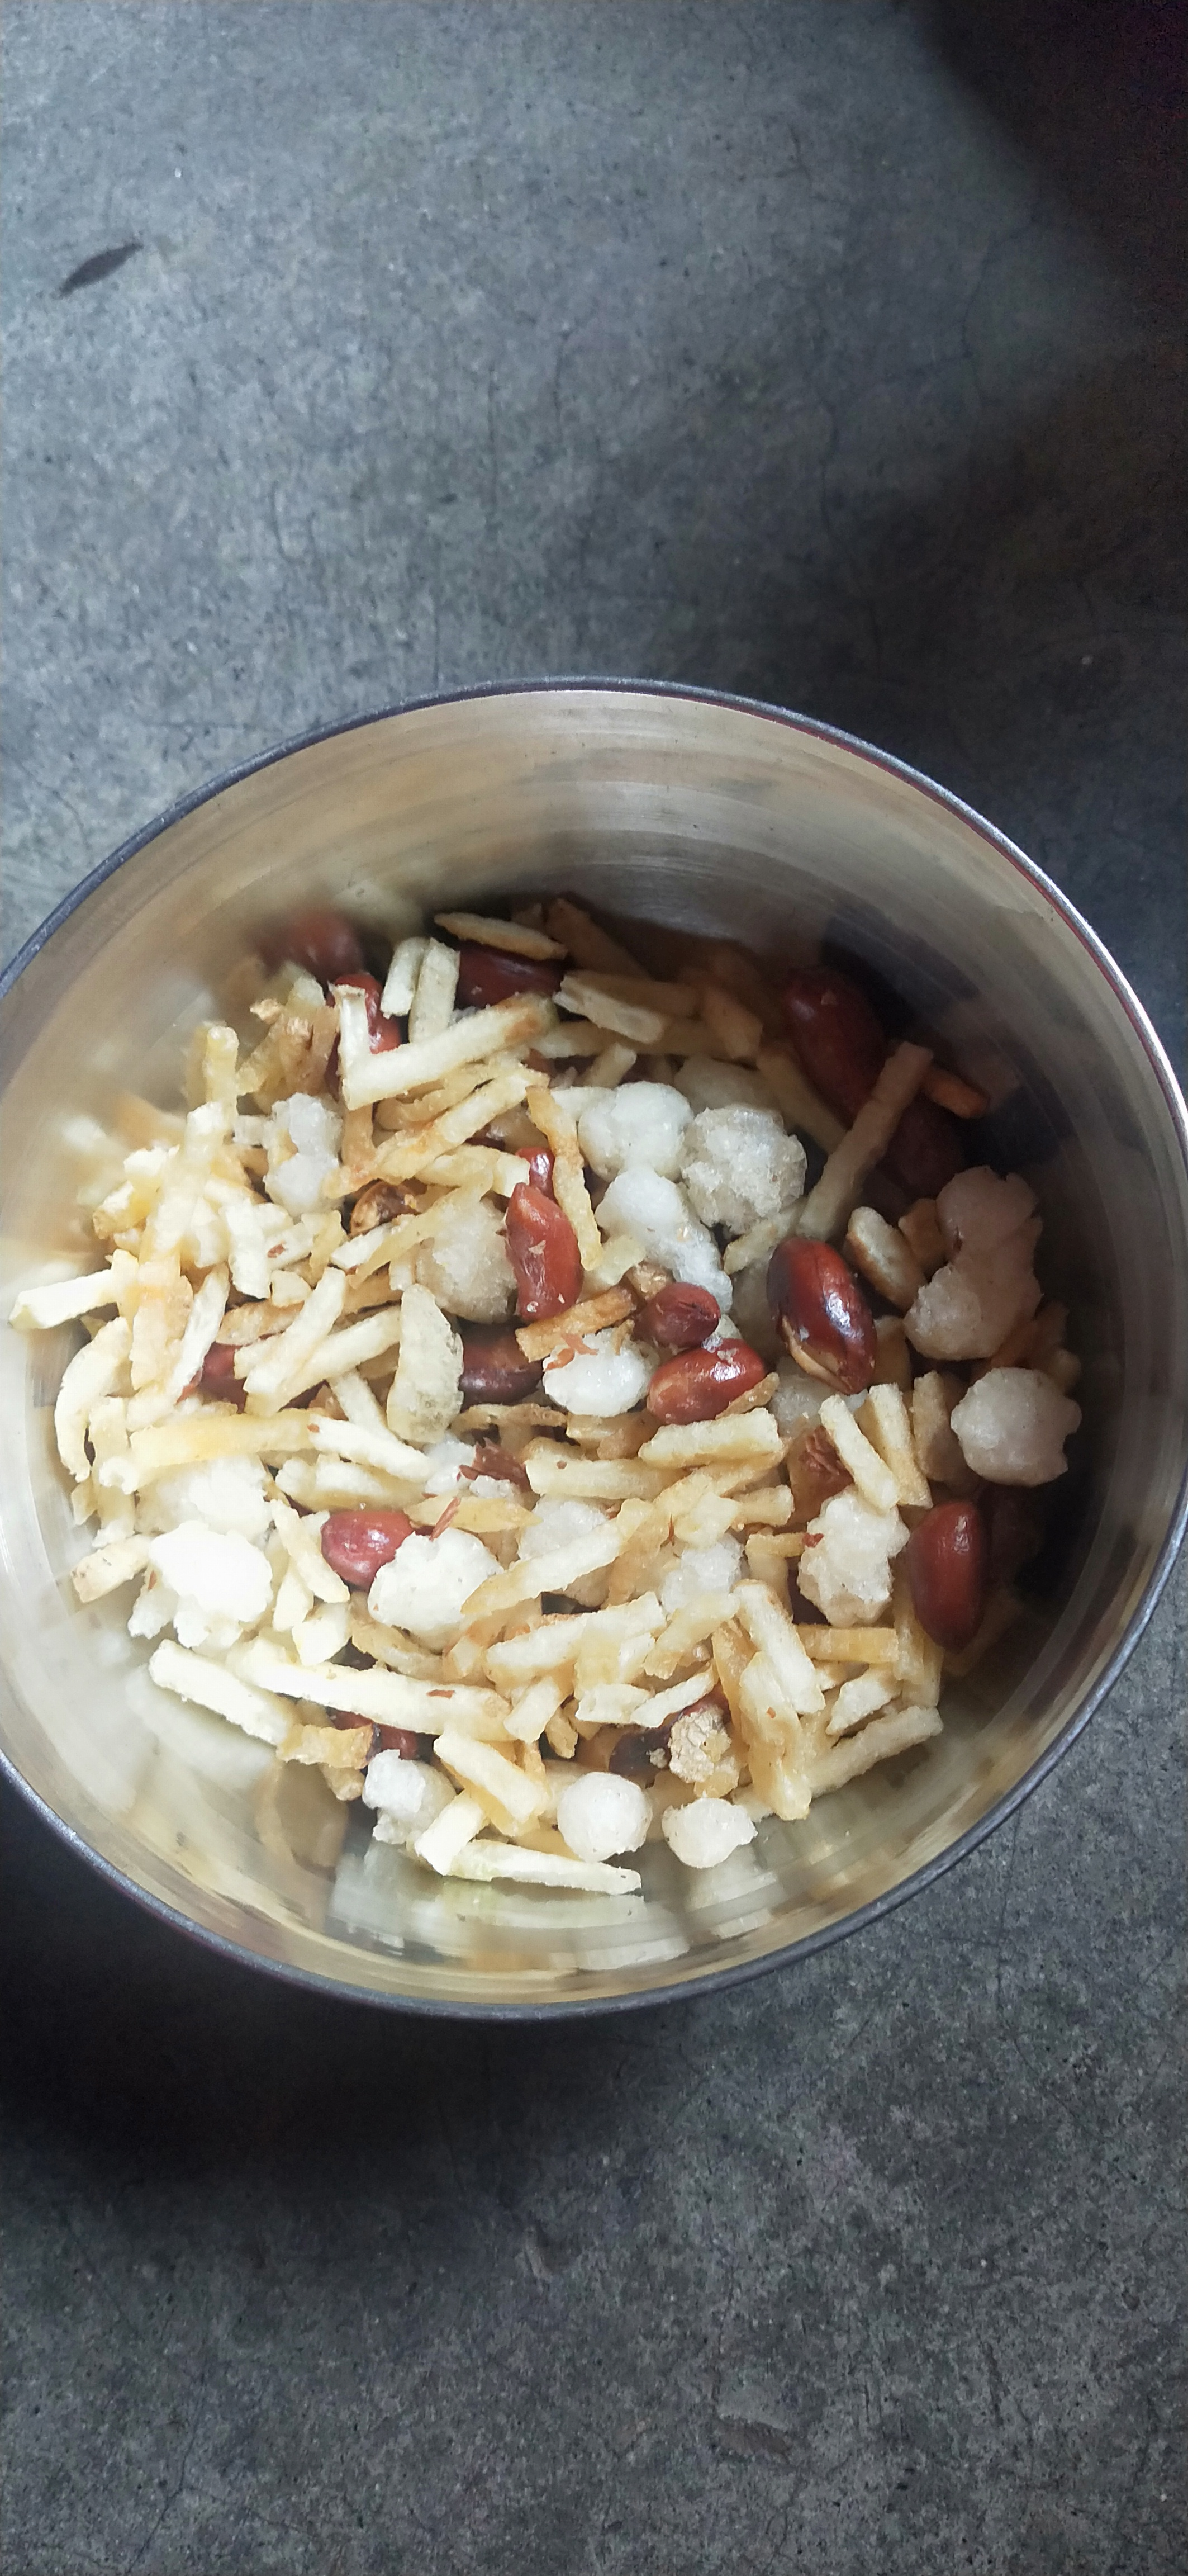food: (16, 879, 1112, 1916)
